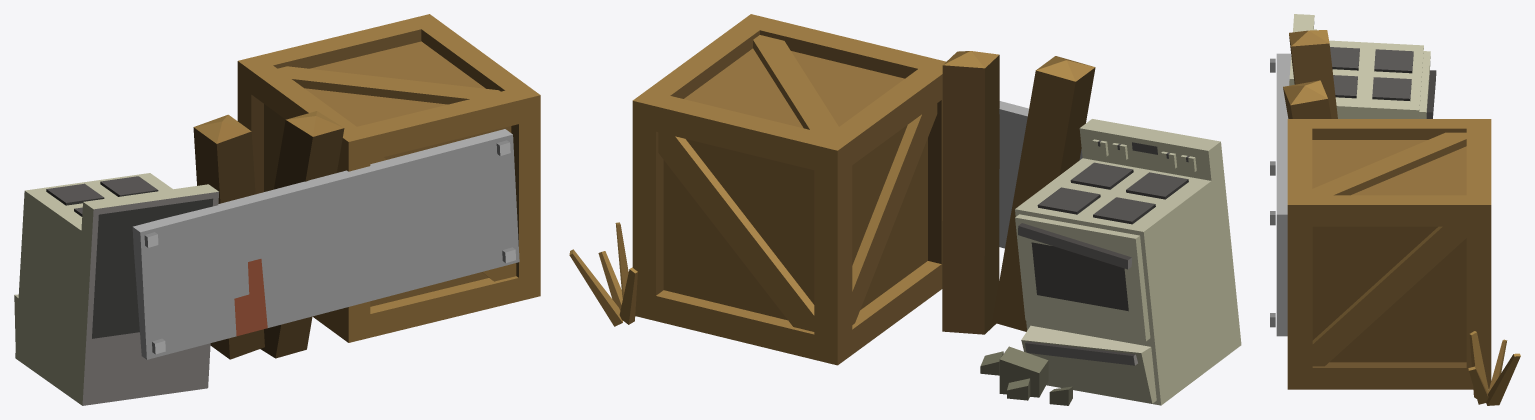
Rendered from FenceSmall_05.fbx.
3 renders of one model, left to right at view 1: azimuth 30°, elevation 25°; view 2: azimuth 150°, elevation 25°; view 3: azimuth 270°, elevation 25°, orthographic. The views are drawn at different scales.
Parts seen in each view (by area): view 1: FenceSmall_05; view 2: FenceSmall_05; view 3: FenceSmall_05.
Part boxes in pixels (left/top/right/bottom): FenceSmall_05: left=14, top=14, right=540, bottom=405; FenceSmall_05: left=569, top=14, right=1241, bottom=405; FenceSmall_05: left=1270, top=14, right=1520, bottom=405.
Bounding box in the file's own units: 3.89 × 1.82 × 1.9.
